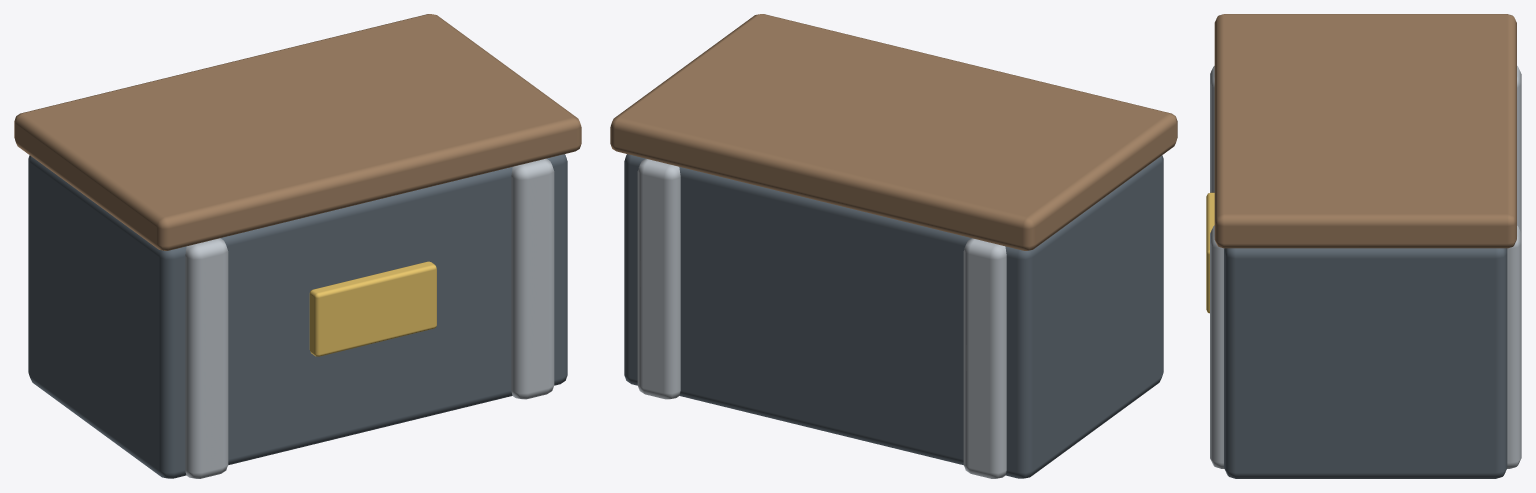
Rendered from arena-shooter-map-kit-ammo-crate-9c83becd__23144.glb.
3 renders of one model, left to right at view 1: azimuth 30°, elevation 25°; view 2: azimuth 150°, elevation 25°; view 3: azimuth 270°, elevation 25°, orthographic.
Parts seen in each view (by area): view 1: ammo-crate; view 2: ammo-crate; view 3: ammo-crate.
Part boxes in pixels (x1=…): ammo-crate: x1=14, y1=14, x2=581, y2=478; ammo-crate: x1=610, y1=14, x2=1177, y2=478; ammo-crate: x1=1206, y1=14, x2=1521, y2=478.
Bounding box in the file's own units: 1.04 × 0.63 × 0.6675.
